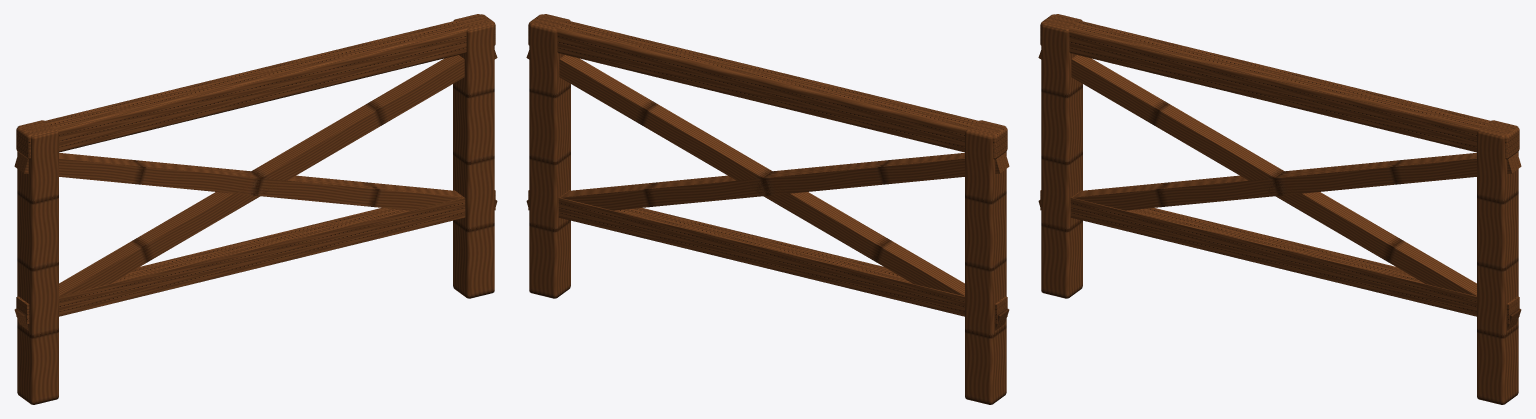
Rendered from fortified-compound-expansion-vehicle-denial-rail-fe61b9fe__27088.glb.
3 views of the same model, side by side, from view 1: azimuth 30°, elevation 25°; view 2: azimuth 150°, elevation 25°; view 3: azimuth 330°, elevation 25° (orthographic).
Parts seen in each view (by area): view 1: vehicle-denial-rail; view 2: vehicle-denial-rail; view 3: vehicle-denial-rail.
Boxes of the visible parts, box(x1,y1,x2,y2) form: vehicle-denial-rail: box(14, 14, 497, 404); vehicle-denial-rail: box(526, 14, 1009, 404); vehicle-denial-rail: box(1038, 14, 1521, 404).
Size of the model in its own units: 2.02 by 1.1 by 0.1199.
Materials: 1 (1 with a texture image).
